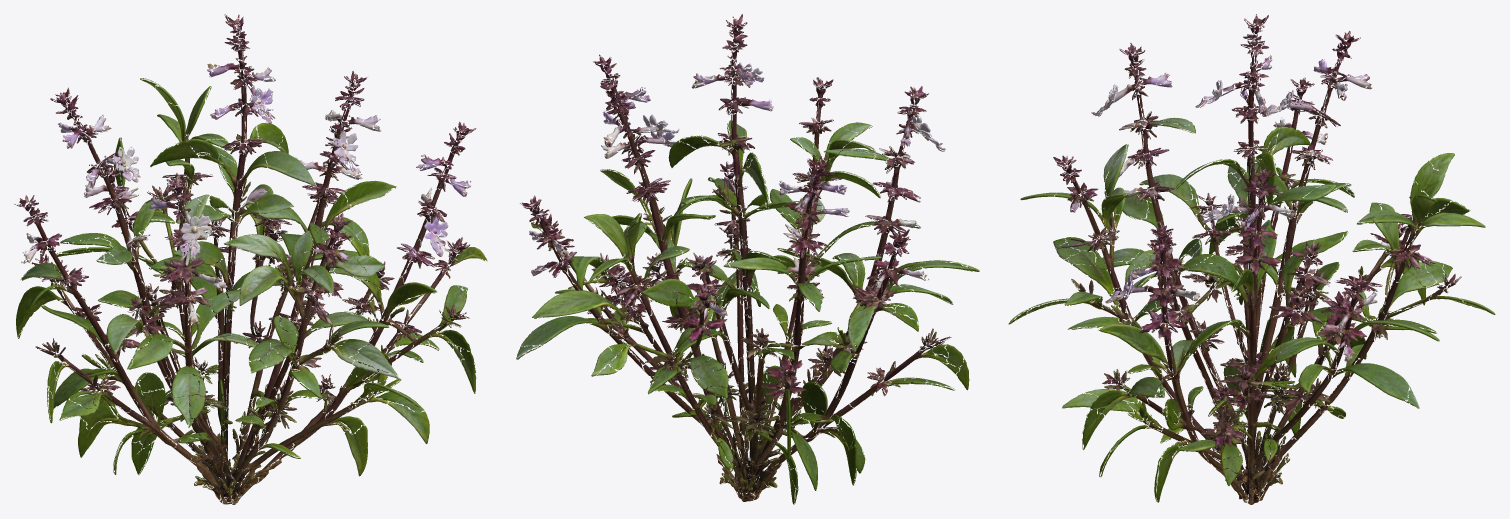
File: rayhan.glb
3 renders of one model, left to right at view 1: azimuth 30°, elevation 25°; view 2: azimuth 150°, elevation 25°; view 3: azimuth 270°, elevation 25°, orthographic.
Visible parts, largest first — view 1: tripo_node_799f4337-83f6-4a0e-b287-24c0fd7e7cb1; view 2: tripo_node_799f4337-83f6-4a0e-b287-24c0fd7e7cb1; view 3: tripo_node_799f4337-83f6-4a0e-b287-24c0fd7e7cb1.
Part boxes in pixels (box(x1,y1,x2,y2)): tripo_node_799f4337-83f6-4a0e-b287-24c0fd7e7cb1: box(14, 14, 487, 504); tripo_node_799f4337-83f6-4a0e-b287-24c0fd7e7cb1: box(516, 14, 979, 504); tripo_node_799f4337-83f6-4a0e-b287-24c0fd7e7cb1: box(1008, 14, 1495, 504).
Size of the model in its own units: 0.9302 by 0.9806 by 0.8833.
1 material, 1 textured.
